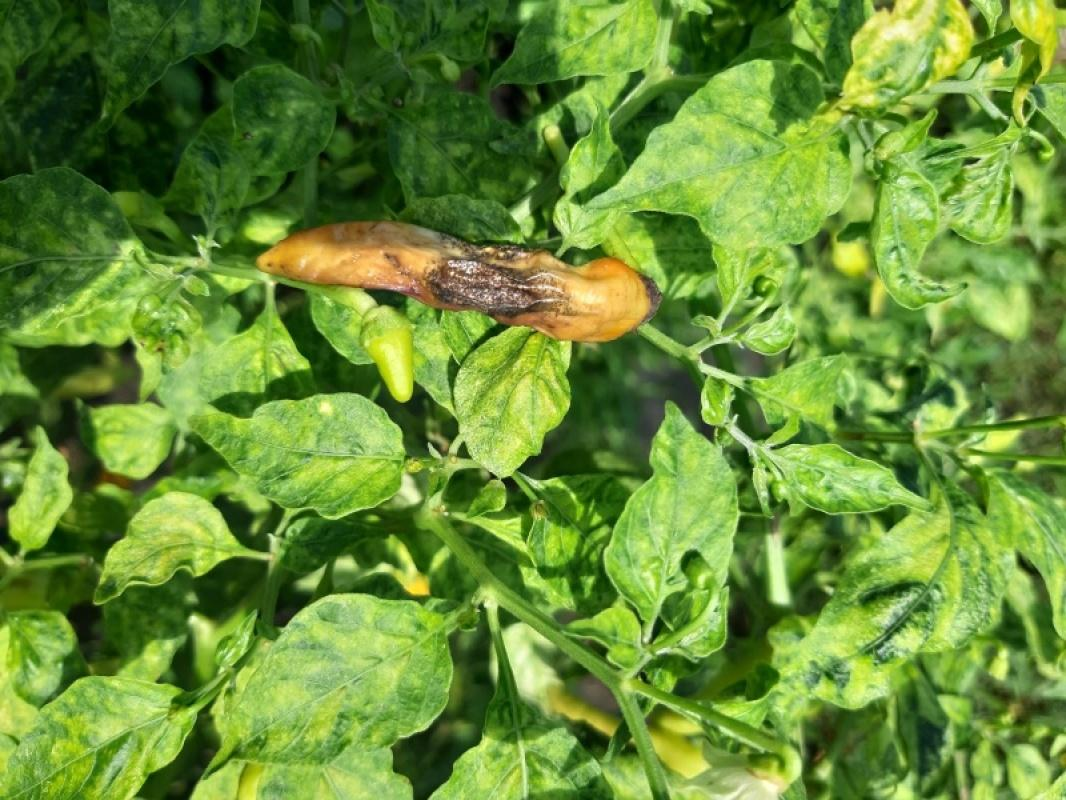antraknosa: (255, 220, 664, 345)
cabai_normal: (360, 305, 419, 402)
